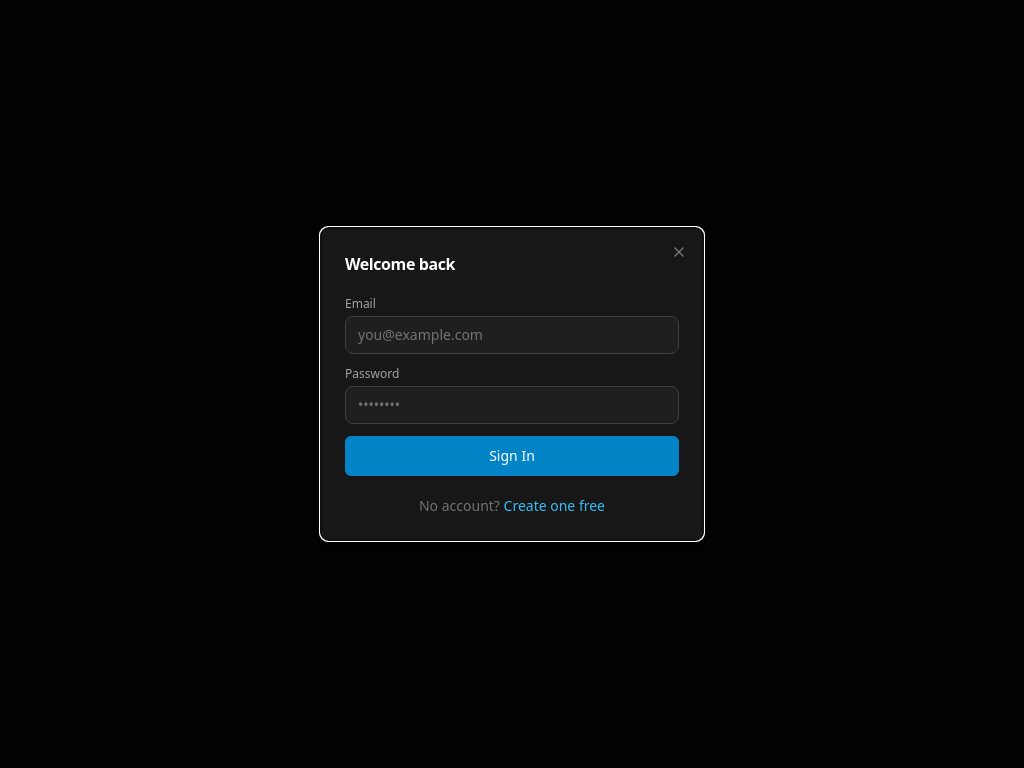
Test case: AuthModal › login form › shows server error message on failed login
Type "a@b.com" into the field labelled "Email" at (512, 335), box [345,316,679,354]
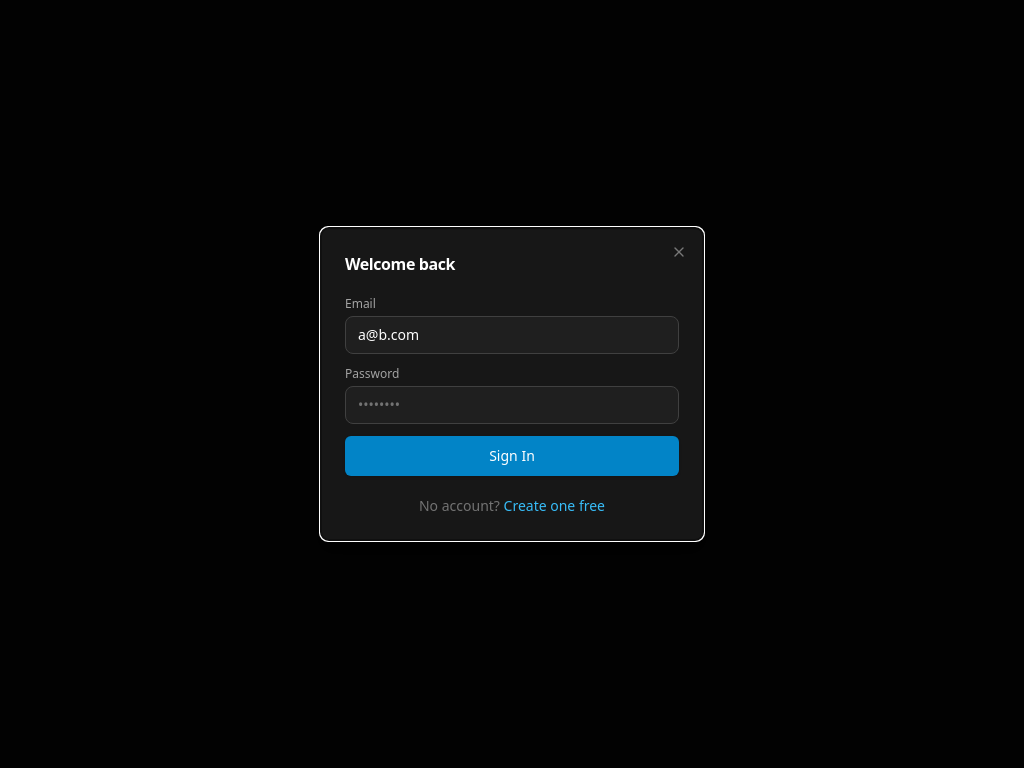
Type "password123" into the password field labelled "Password" at (512, 405), box [345,386,679,424]
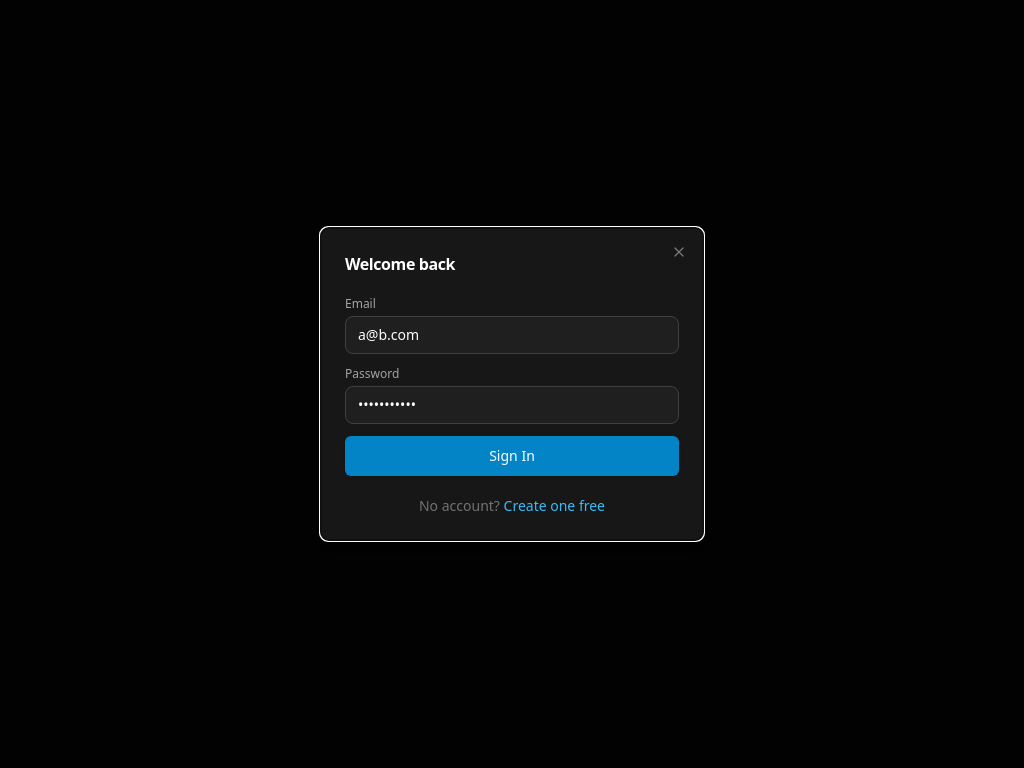
Click the button "Sign In" at (512, 456), box [345,436,679,476]
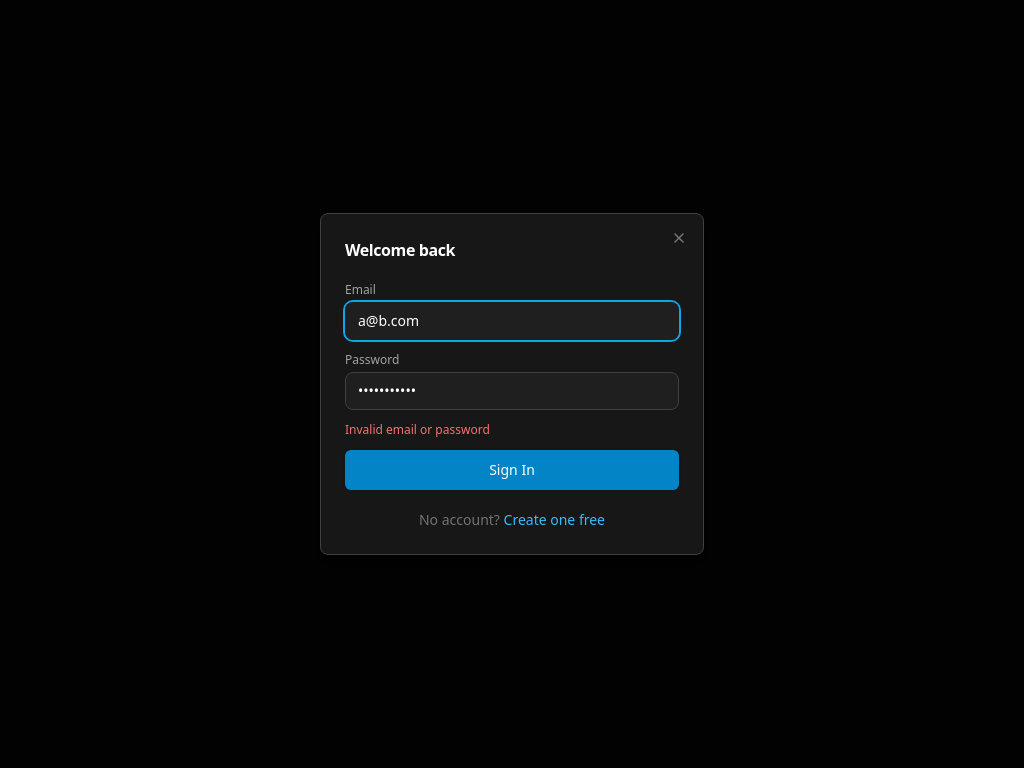
Result: the text "Invalid email or password" is shown at [345,421,490,438]
